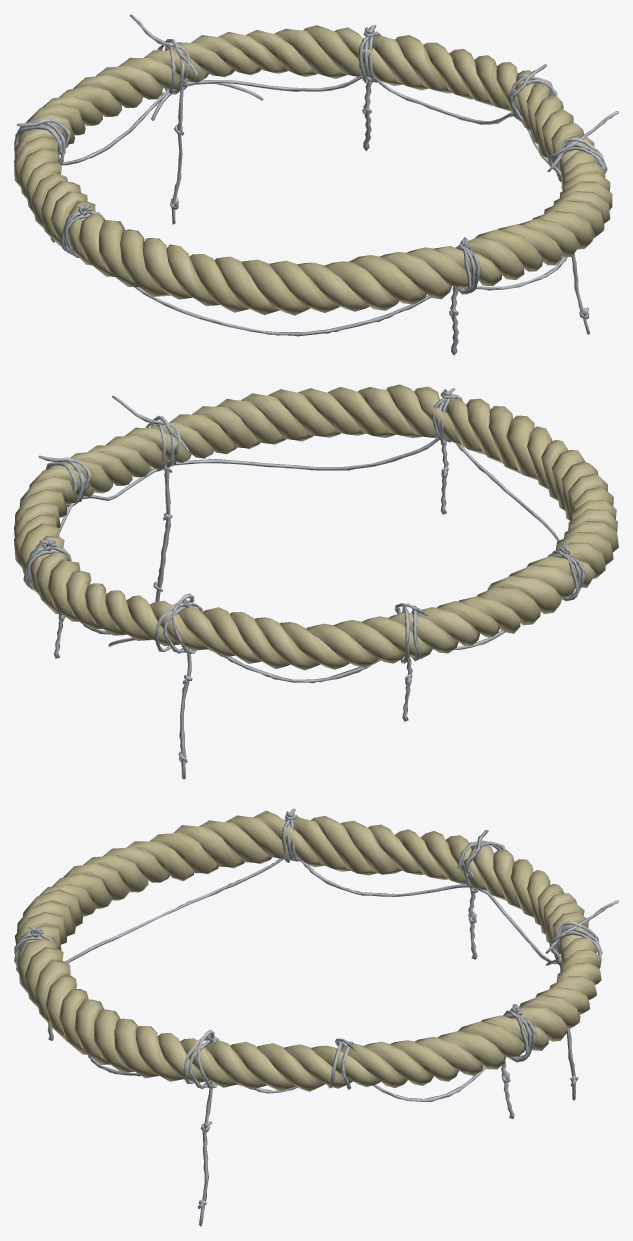
Rendered from SM_ENV_KNFRST_StrawRope_J.FBX.
The picture shows the model from 3 angles, top to bottom: view 1: azimuth 30°, elevation 25°; view 2: azimuth 150°, elevation 25°; view 3: azimuth 270°, elevation 25°; orthographic projection. The views are drawn at different scales.
Visible parts, largest first — view 1: SM_ENV_KNFRST_StrawRope_J; view 2: SM_ENV_KNFRST_StrawRope_J; view 3: SM_ENV_KNFRST_StrawRope_J.
Part boxes in pixels (x1=…): SM_ENV_KNFRST_StrawRope_J: x1=14, y1=14, x2=618, y2=355; SM_ENV_KNFRST_StrawRope_J: x1=14, y1=384, x2=618, y2=779; SM_ENV_KNFRST_StrawRope_J: x1=14, y1=808, x2=618, y2=1226.
Bounding box in the file's own units: 1710 × 696 × 1794.
